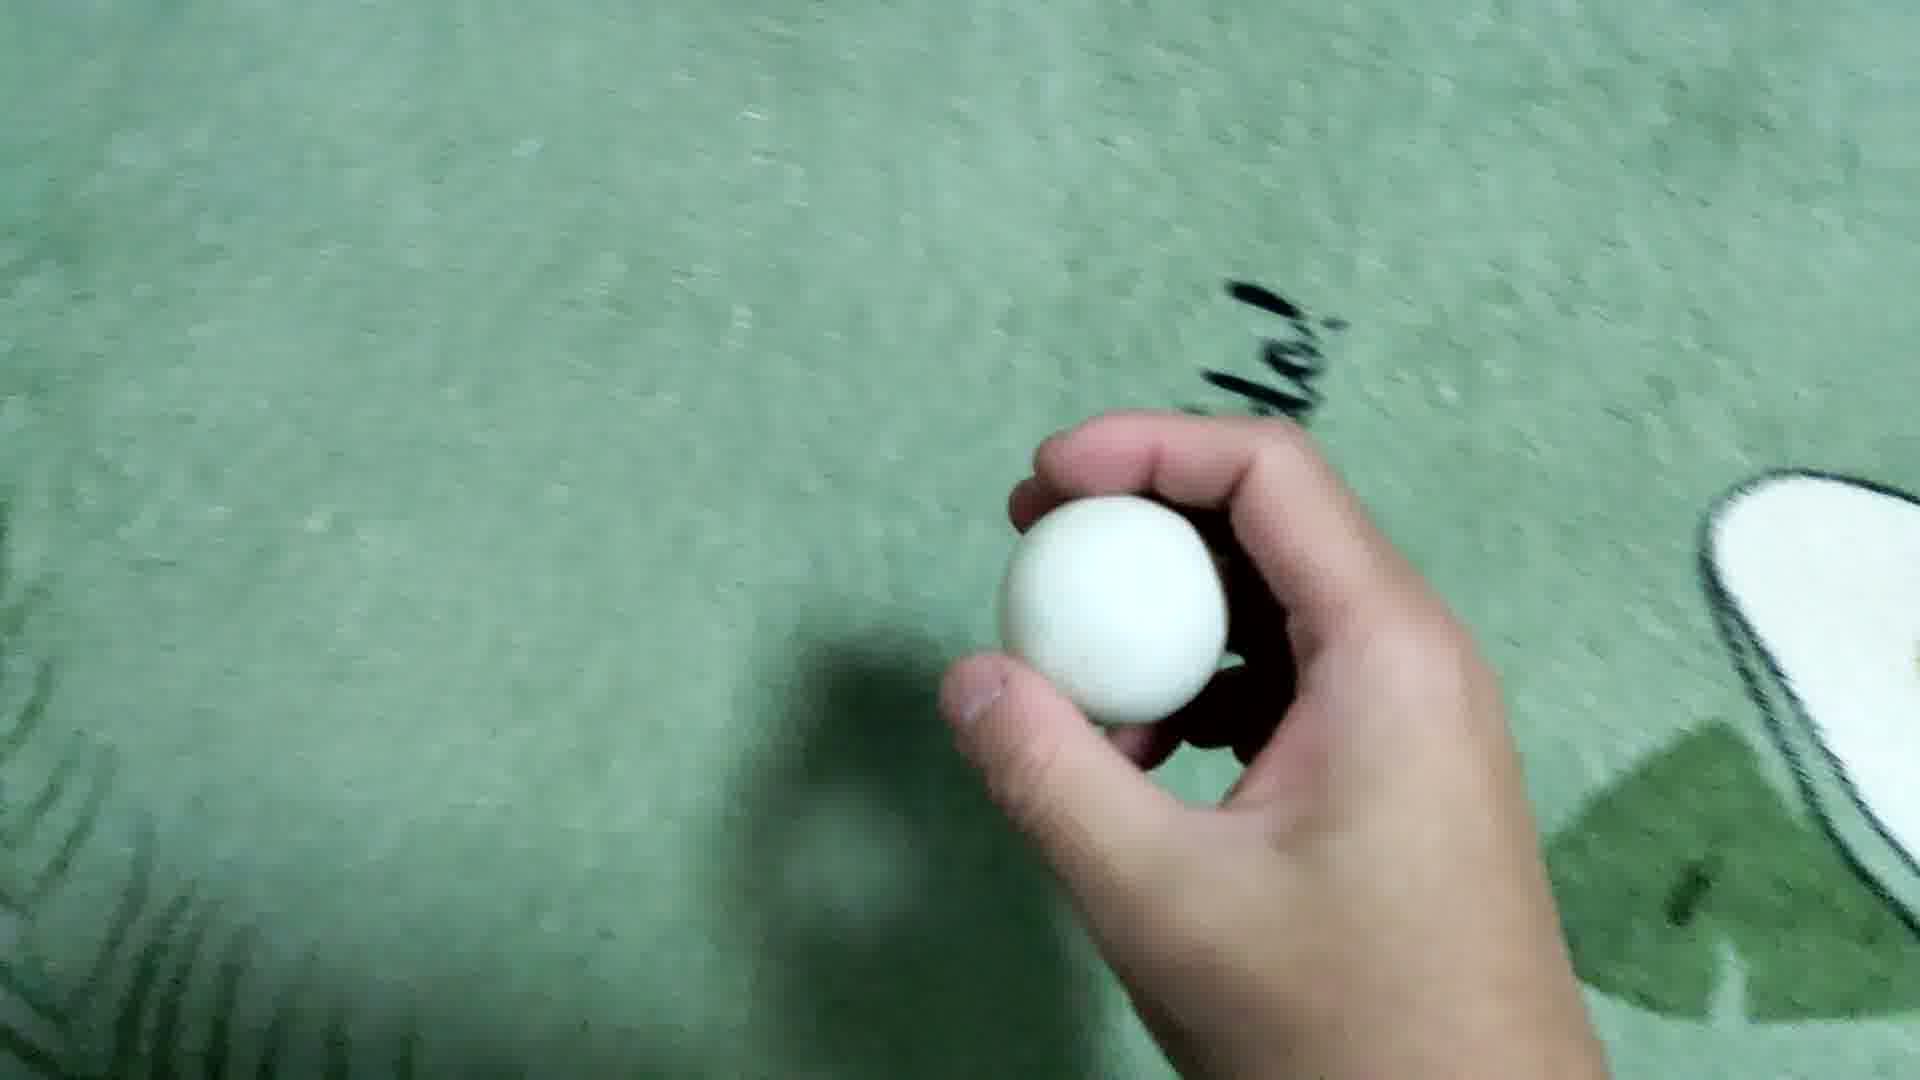Ball: (996, 491, 1226, 724)
